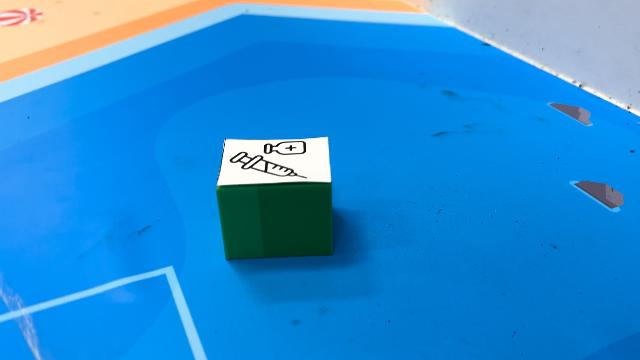syringe: (215, 136, 333, 260)
